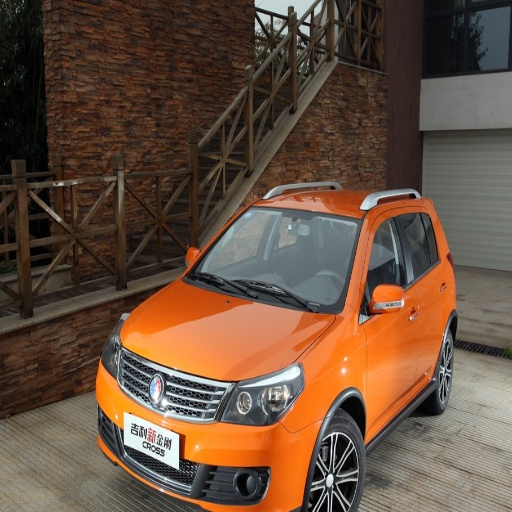front_bumper: (99, 351, 322, 511)
front_glass: (184, 204, 362, 313)
front_left_door: (363, 209, 415, 428)
